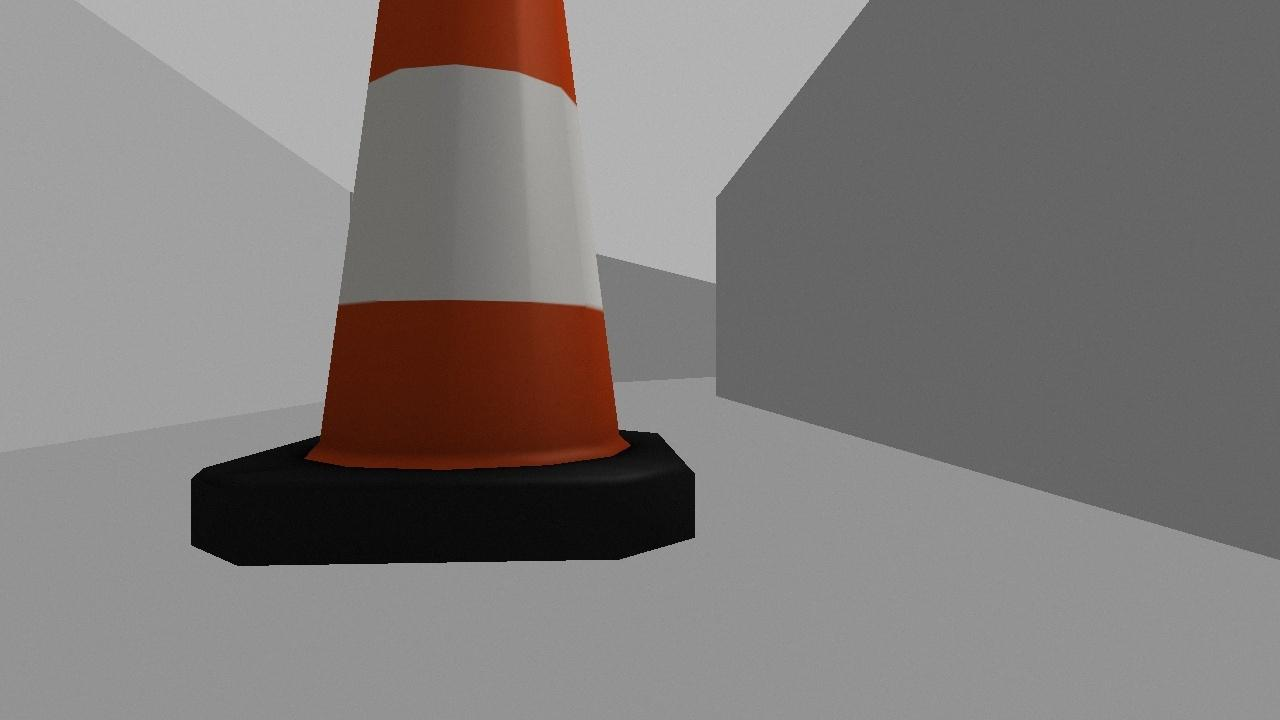cone_barrel: (165, 0, 718, 581)
